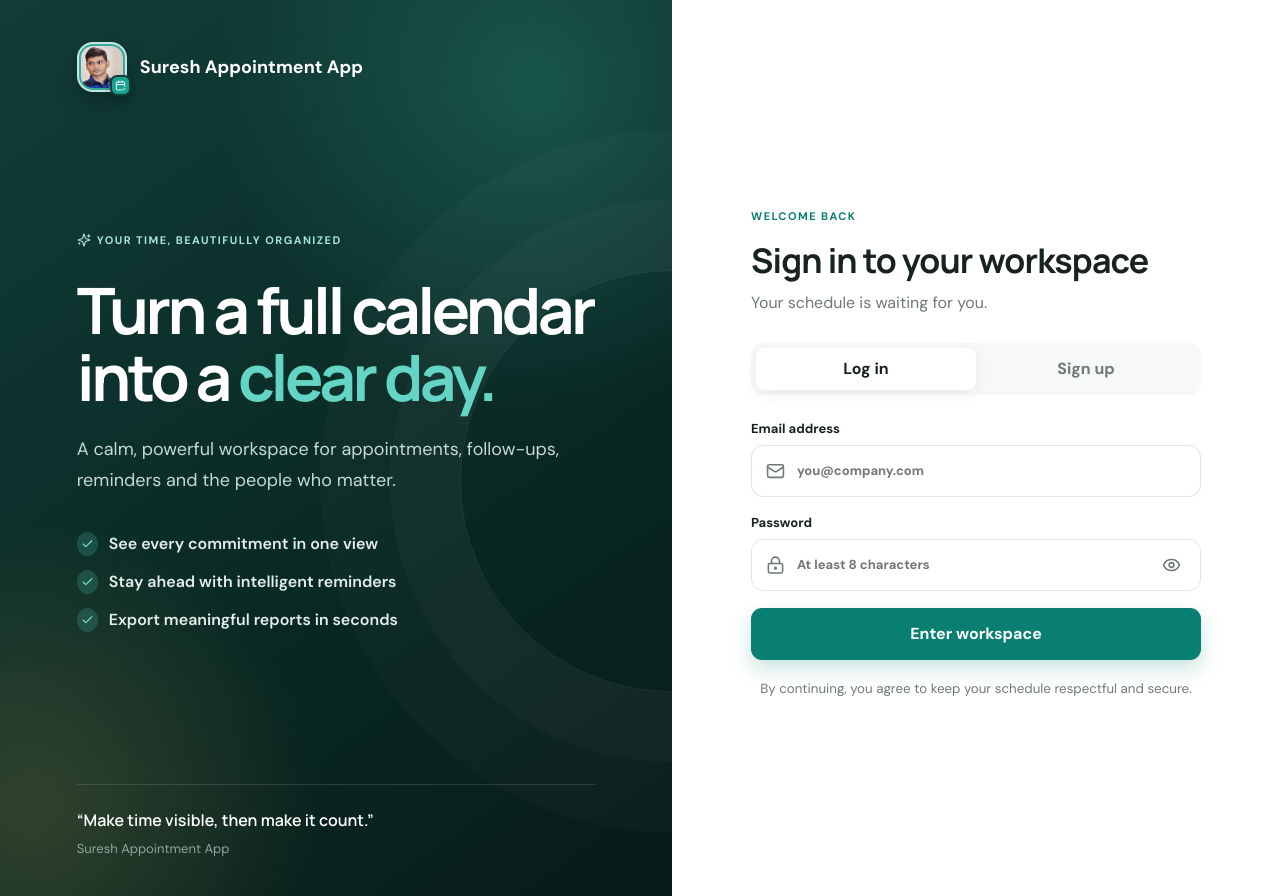
Suresh Appointment App › authenticates and loads the protected dashboard
This screenshot has width=1280, height=896.
Type "suresh@example.com" into the field with placeholder "you@company.com" at (986, 470), box [785,462,1186,479]
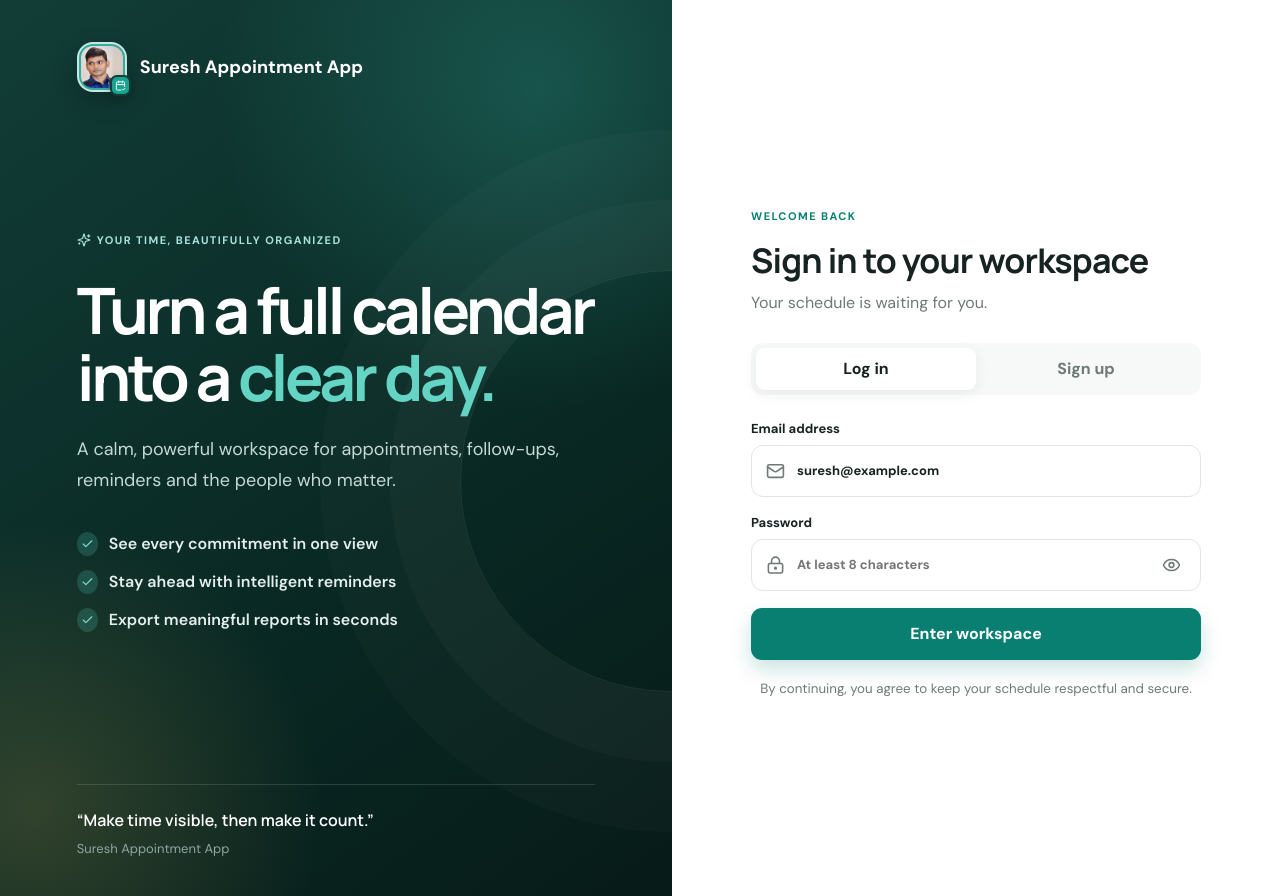
Type "password123" into the password field with placeholder "At least 8 characters" at (971, 564), box [785,556,1157,573]
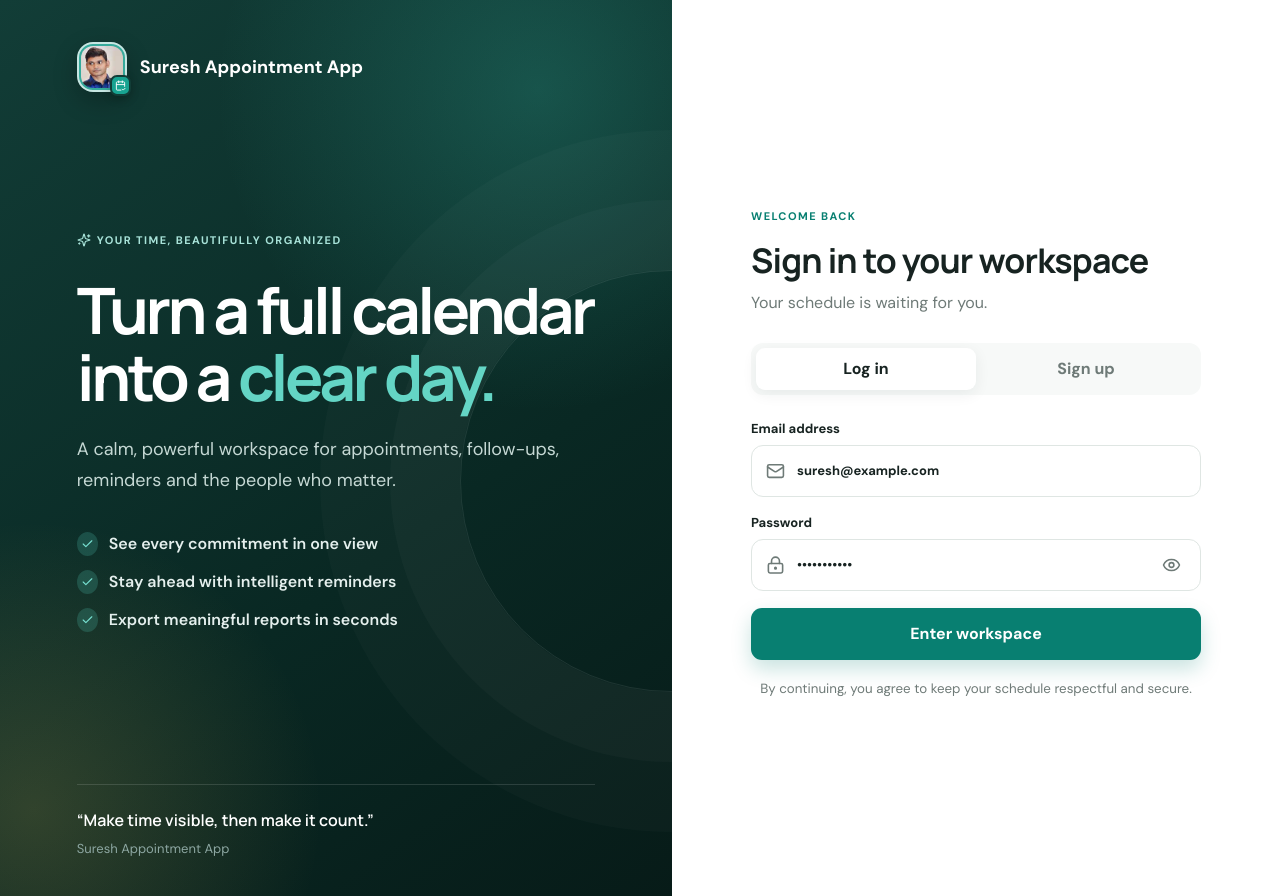
Click the button "Enter workspace" at (976, 634), box [751,608,1201,660]
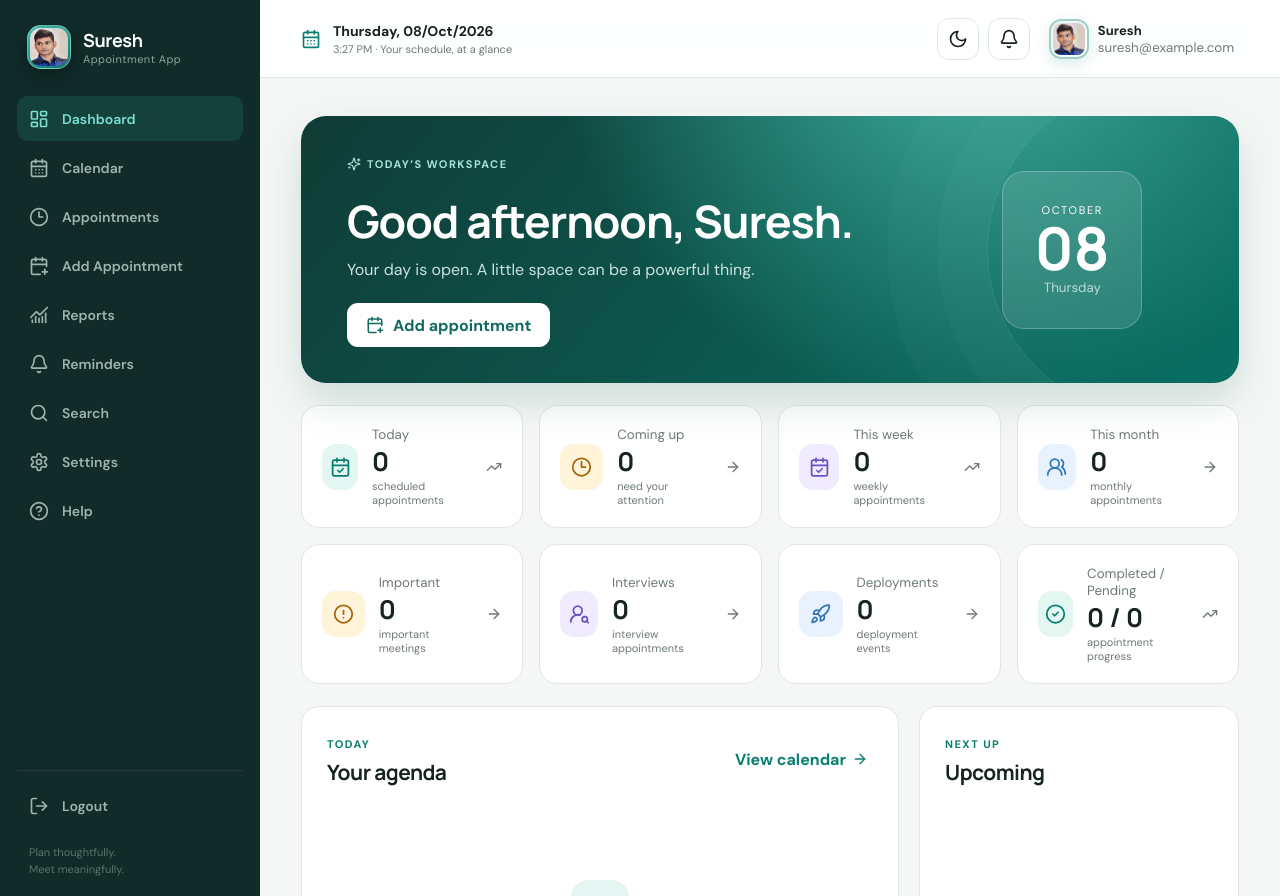
Now the heading "Good afternoon, Suresh." is shown, box [347,190,853,251]
Now the text "Dashboard" is shown, box [62,110,136,128]
